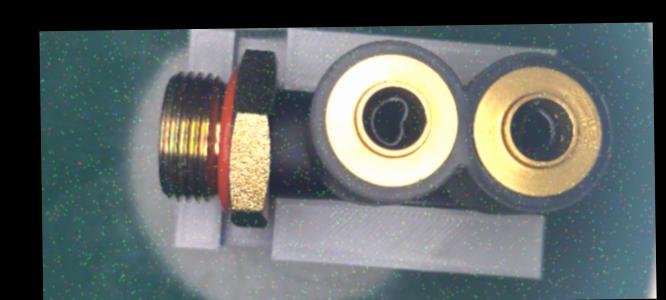off-centered: (365, 91, 417, 148), (511, 106, 562, 158)
